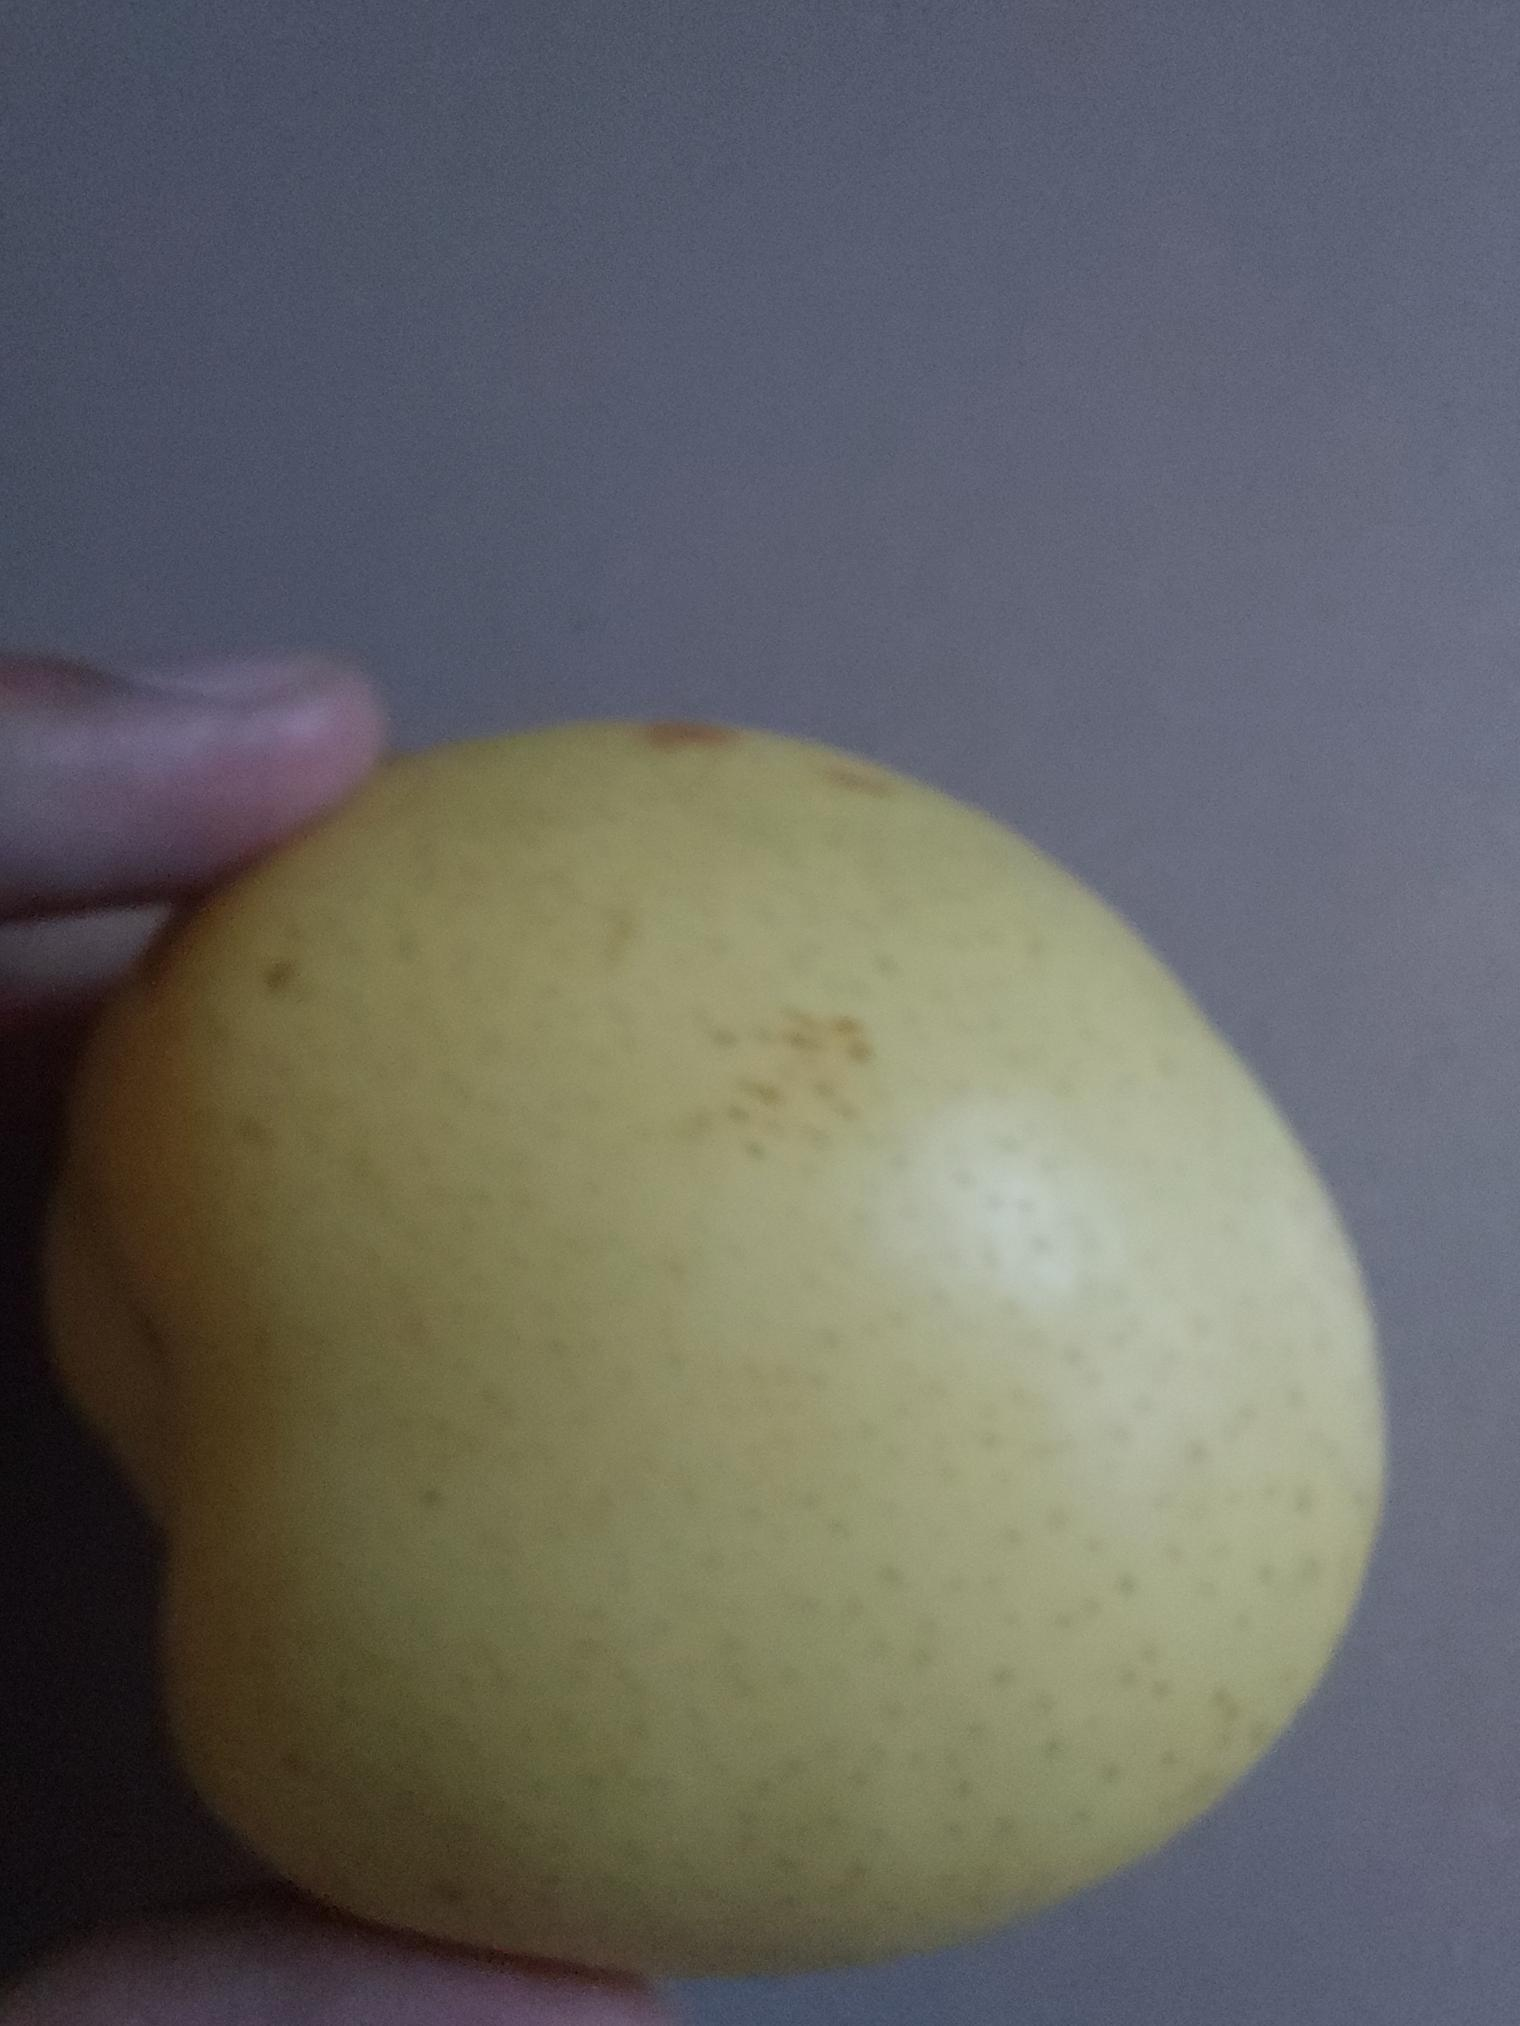Good Pear: (39, 707, 1392, 1987)
